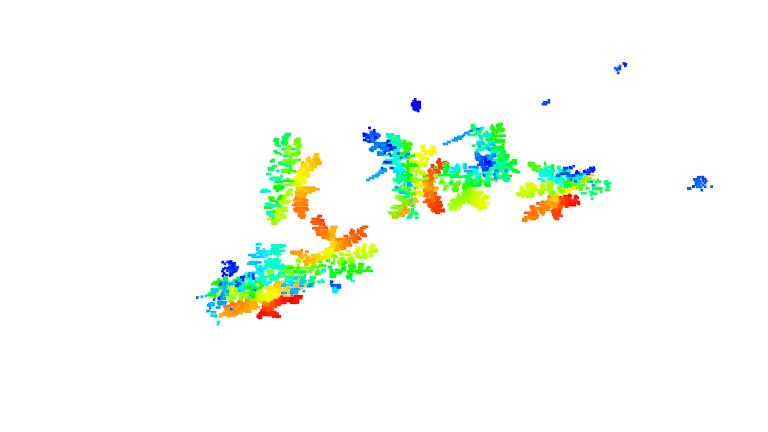chickpea: (360, 120, 449, 222), (201, 241, 309, 323), (283, 214, 380, 291), (443, 123, 521, 213), (253, 131, 324, 224), (519, 162, 613, 225)
